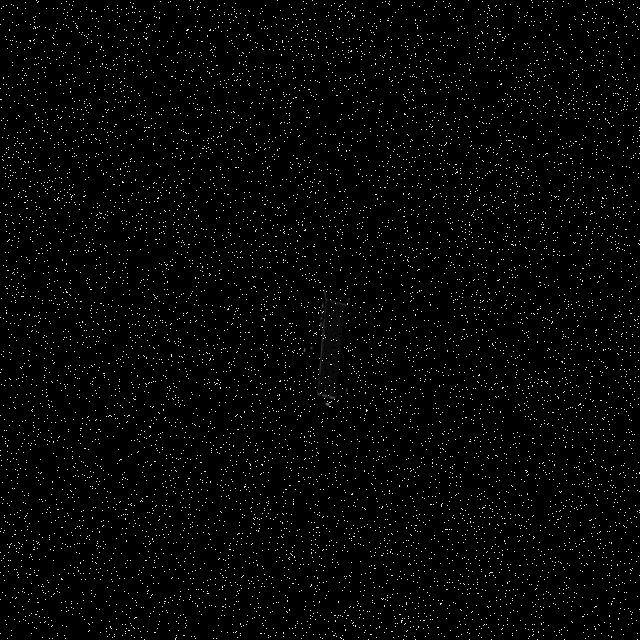satellite: (310, 288, 366, 410)
